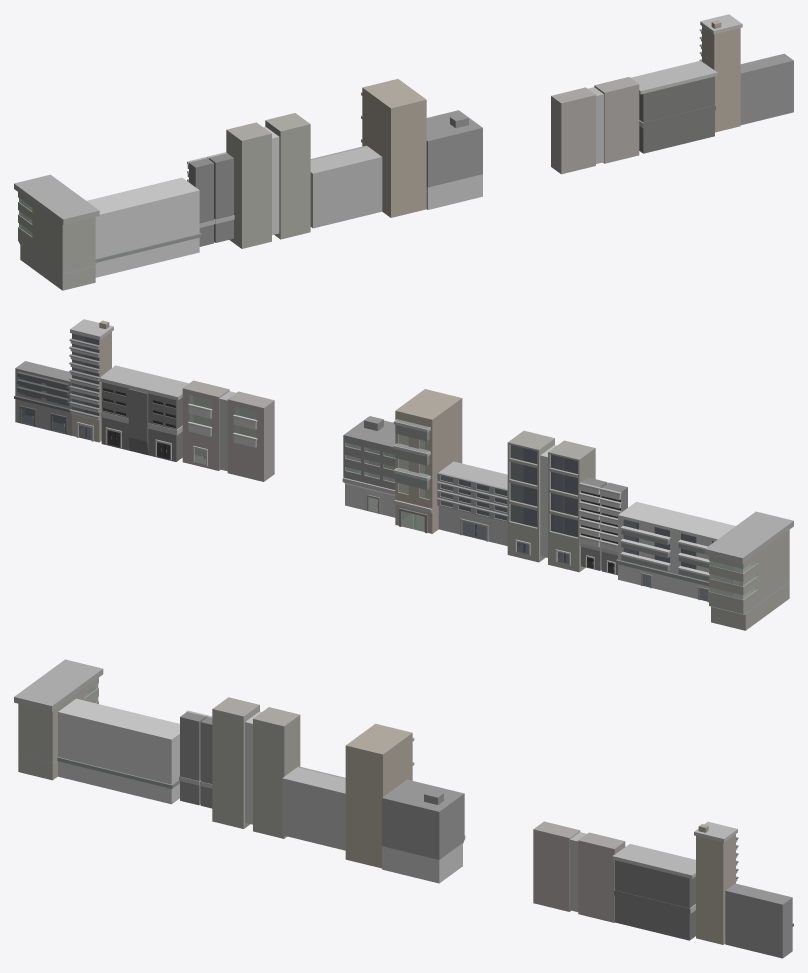
Rendered from Buildings5.glb.
The picture shows the model from 3 angles, top to bottom: view 1: azimuth 30°, elevation 25°; view 2: azimuth 150°, elevation 25°; view 3: azimuth 330°, elevation 25°; orthographic projection. The views are drawn at different scales.
Parts seen in each view (by area): view 1: Building64-convcol, Building66-convcol, Building67-convcol, Building60-convcol, Building62-convcol, Building59-convcol, Building63-convcol, Building61-convcol, Building58-convcol, Building65-convcol, Building57-convcol; view 2: Building64-convcol, Building66-convcol, Building67-convcol, Building60-convcol, Building62-convcol, Building59-convcol, Building63-convcol, Building61-convcol, Building58-convcol, Building65-convcol, Building57-convcol; view 3: Building64-convcol, Building66-convcol, Building61-convcol, Building60-convcol, Building62-convcol, Building59-convcol, Building67-convcol, Building63-convcol, Building57-convcol, Building58-convcol, Building65-convcol.
Part boxes in pixels (<box>): Building64-convcol: <box>226,113,310,248</box>; Building66-convcol: <box>87,177,201,277</box>; Building67-convcol: <box>14,174,99,290</box>; Building60-convcol: <box>551,77,639,174</box>; Building62-convcol: <box>361,79,426,217</box>; Building59-convcol: <box>630,61,717,153</box>; Building63-convcol: <box>310,145,382,228</box>; Building61-convcol: <box>426,110,482,209</box>; Building58-convcol: <box>699,14,742,132</box>; Building65-convcol: <box>187,152,234,246</box>; Building57-convcol: <box>740,53,793,124</box>; Building64-convcol: <box>507,430,595,572</box>; Building66-convcol: <box>616,501,752,602</box>; Building67-convcol: <box>704,511,793,630</box>; Building60-convcol: <box>182,380,274,481</box>; Building62-convcol: <box>393,389,462,533</box>; Building59-convcol: <box>99,365,188,461</box>; Building63-convcol: <box>437,461,507,545</box>; Building61-convcol: <box>342,416,395,517</box>; Building58-convcol: <box>69,319,113,442</box>; Building65-convcol: <box>579,477,627,575</box>; Building57-convcol: <box>14,361,71,435</box>; Building64-convcol: <box>212,697,300,838</box>; Building66-convcol: <box>57,698,179,804</box>; Building61-convcol: <box>382,779,465,883</box>; Building60-convcol: <box>533,821,625,922</box>; Building62-convcol: <box>345,723,414,868</box>; Building59-convcol: <box>612,844,695,940</box>; Building67-convcol: <box>14,659,103,780</box>; Building63-convcol: <box>282,766,345,850</box>; Building57-convcol: <box>725,883,793,958</box>; Building58-convcol: <box>694,821,738,944</box>; Building65-convcol: <box>179,710,212,808</box>.
Bounding box in the file's own units: 267 × 39.75 × 34.51.
